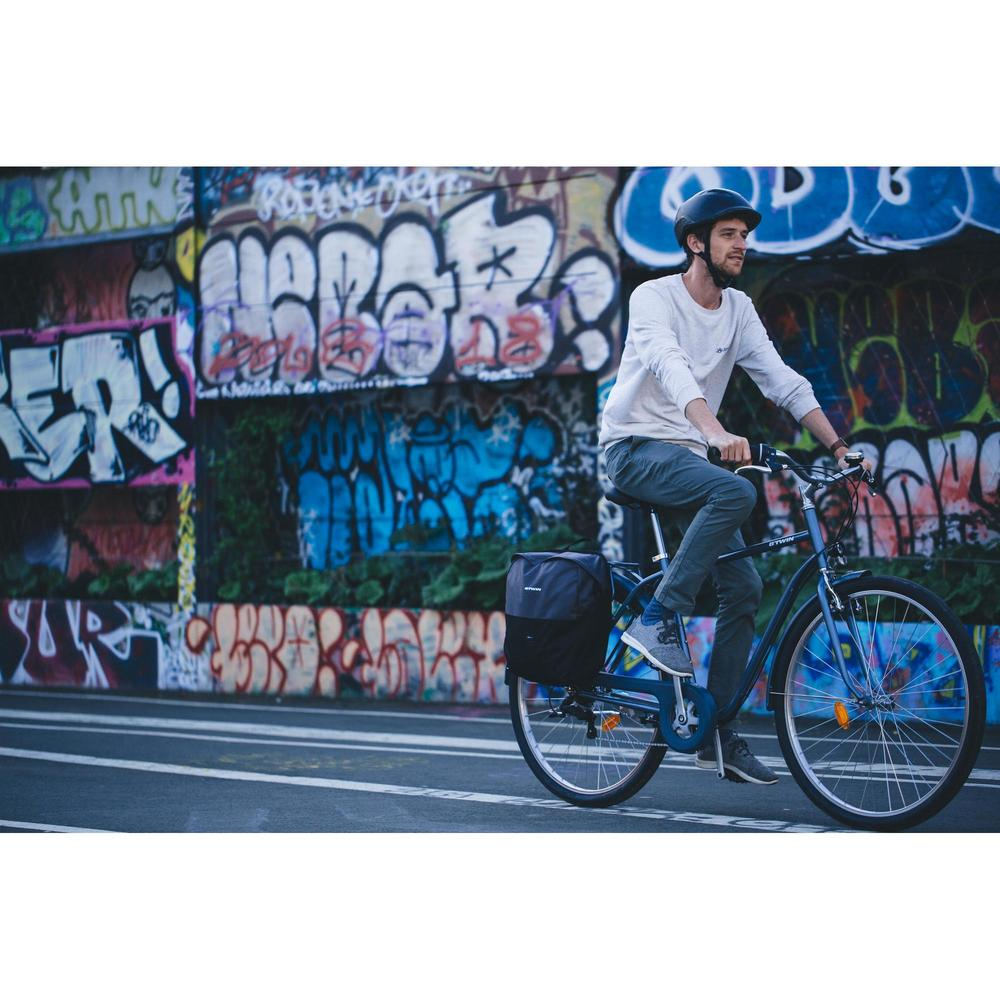UrbanBike: (502, 437, 972, 827)
